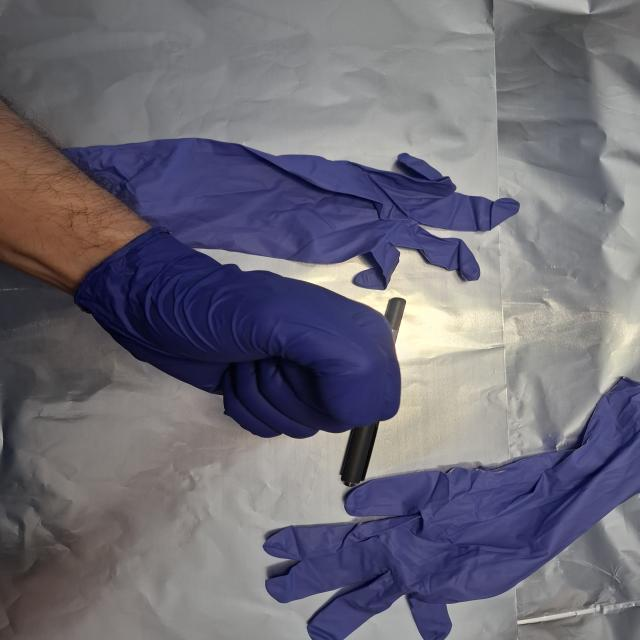glove_on: (74, 226, 405, 443)
